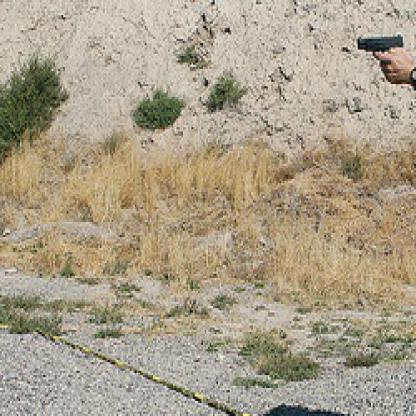gun: (356, 32, 404, 69)
